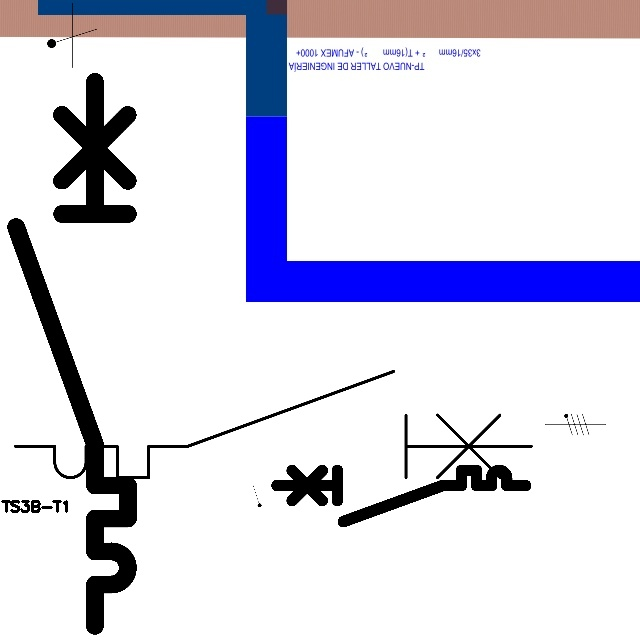interruptor_termomagnetico: (2, 67, 142, 639), (2, 358, 544, 491), (270, 464, 531, 528)
